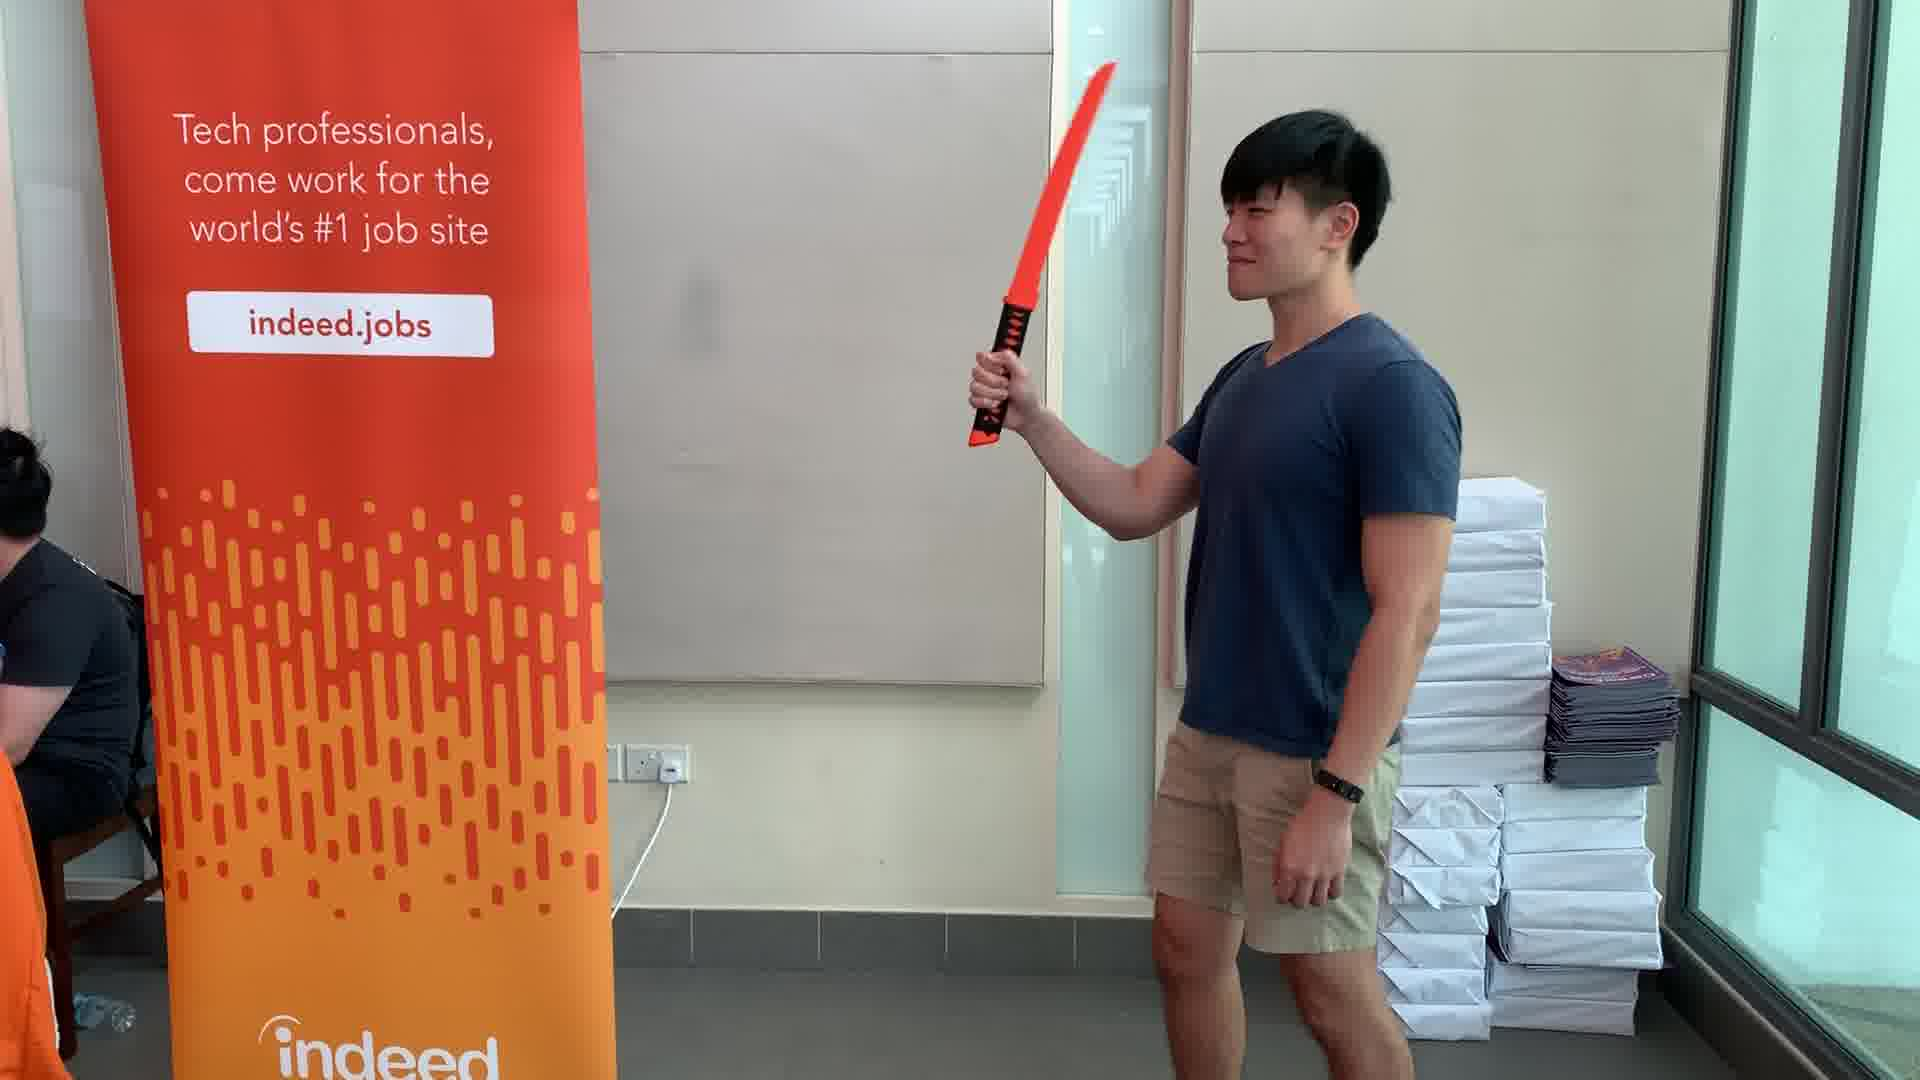knife: (957, 53, 1120, 463)
